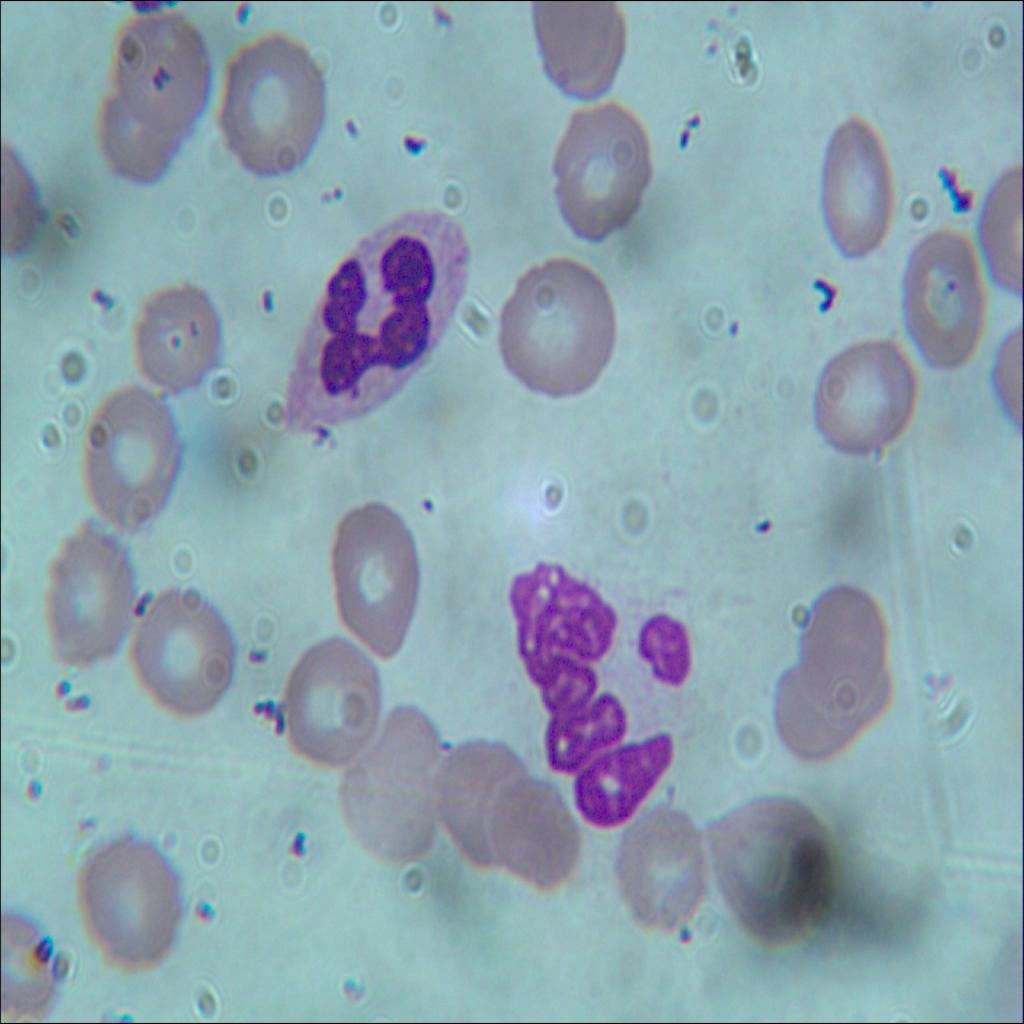Eritrosit: (490, 245, 618, 401), (718, 794, 840, 948), (322, 488, 423, 664), (334, 708, 451, 859), (216, 34, 329, 189), (546, 100, 658, 246), (40, 522, 142, 674), (889, 219, 990, 371), (278, 630, 384, 774), (806, 334, 920, 467), (82, 387, 179, 538), (430, 735, 538, 870), (126, 592, 238, 718), (78, 837, 182, 972), (809, 112, 896, 263), (773, 660, 893, 765), (486, 767, 584, 894), (102, 4, 208, 121), (615, 805, 711, 927), (126, 278, 226, 392), (806, 584, 888, 714), (521, 0, 625, 101), (93, 92, 191, 186), (0, 912, 59, 1015)
Neutrofil: (514, 558, 703, 840), (273, 195, 475, 448)
Platelet: (718, 305, 748, 352), (418, 486, 448, 532), (673, 914, 695, 969), (189, 892, 215, 930), (23, 767, 49, 801), (50, 669, 73, 701)
